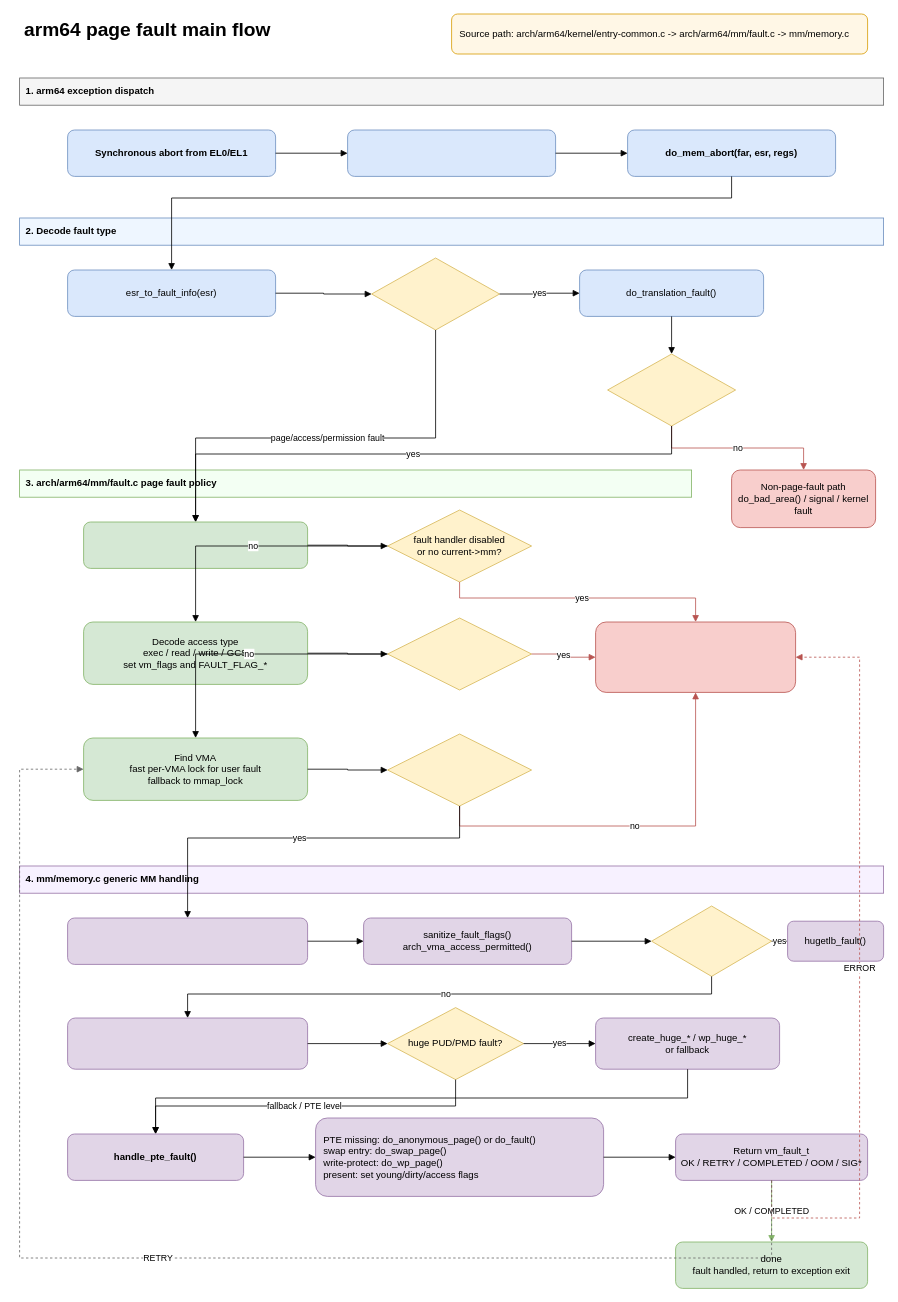
The diagram is 898 pixels wide and 1302 high, and some of its shapes have lost their labels. The box of each missing label's shape, as (x1, y1, x2, y2) in pixels:
__handle_mm_fault() walk or allocate pgd/p4d/pud/pmd: (67, 1017, 308, 1069)
bad_area user: SIGSEGV/SIGBUS kernel: __do_kernel_fault(): (595, 621, 796, 692)
do_page_fault(far, esr, regs): (83, 521, 308, 568)
EL1 illegal user memory access?: (387, 617, 532, 690)
entry-common.c read FAR_EL1, keep ESR_ELx: (347, 129, 556, 176)
handle_mm_fault(vma, addr, flags, regs): (67, 917, 308, 964)
hugetlb VMA?: (651, 905, 772, 976)
translation fault?: (371, 257, 500, 330)
TTBR0 user address?: (607, 353, 736, 426)
valid VMA perms and pkey?: (387, 733, 532, 806)
